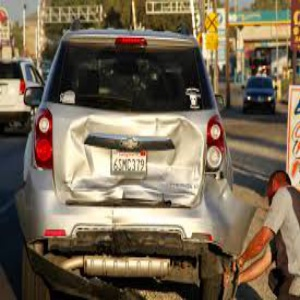bumper: (53, 235, 232, 292)
